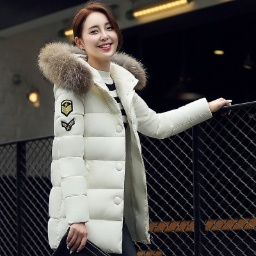face: (57, 2, 146, 74)
